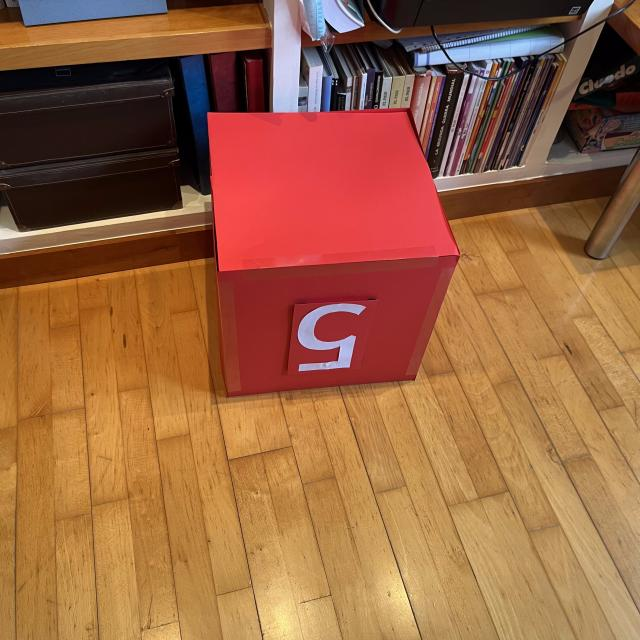box: (201, 104, 464, 399)
